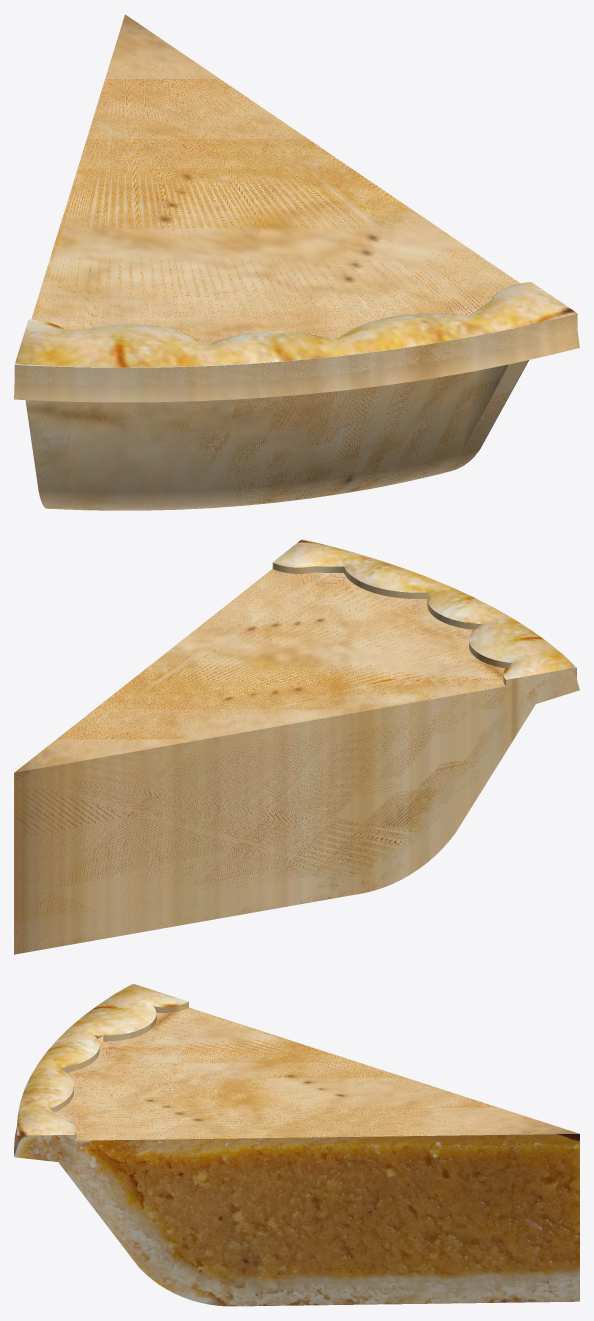
The picture shows the model from 3 angles, top to bottom: view 1: azimuth 30°, elevation 25°; view 2: azimuth 150°, elevation 25°; view 3: azimuth 270°, elevation 25°; orthographic projection. The views are drawn at different scales.
Parts seen in each view (by area): view 1: SketchUp (×5); view 2: SketchUp (×4); view 3: SketchUp (×5).
Part boxes in pixels (x1=…): SketchUp (×5): x1=14, y1=14, x2=579, y2=510; SketchUp (×4): x1=14, y1=539, x2=579, y2=954; SketchUp (×5): x1=14, y1=983, x2=579, y2=1306.
Size of the model in its own units: 22.1 by 34.56 by 12.07.
Materials: 8 (6 with a texture image).
